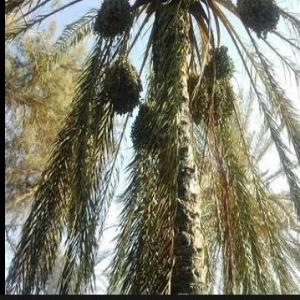palm tree: (5, 0, 299, 294)
